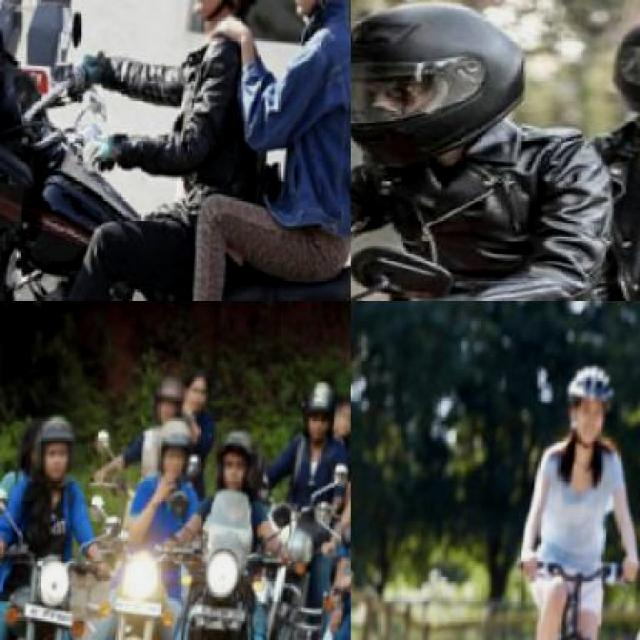With Helmet: (350, 0, 541, 172), (578, 0, 638, 134), (560, 360, 622, 449), (294, 364, 348, 451), (209, 422, 265, 500), (185, 0, 269, 48), (32, 409, 85, 483), (150, 412, 198, 488), (152, 373, 188, 427), (334, 388, 349, 435)
Without Helmet: (183, 368, 214, 414)
